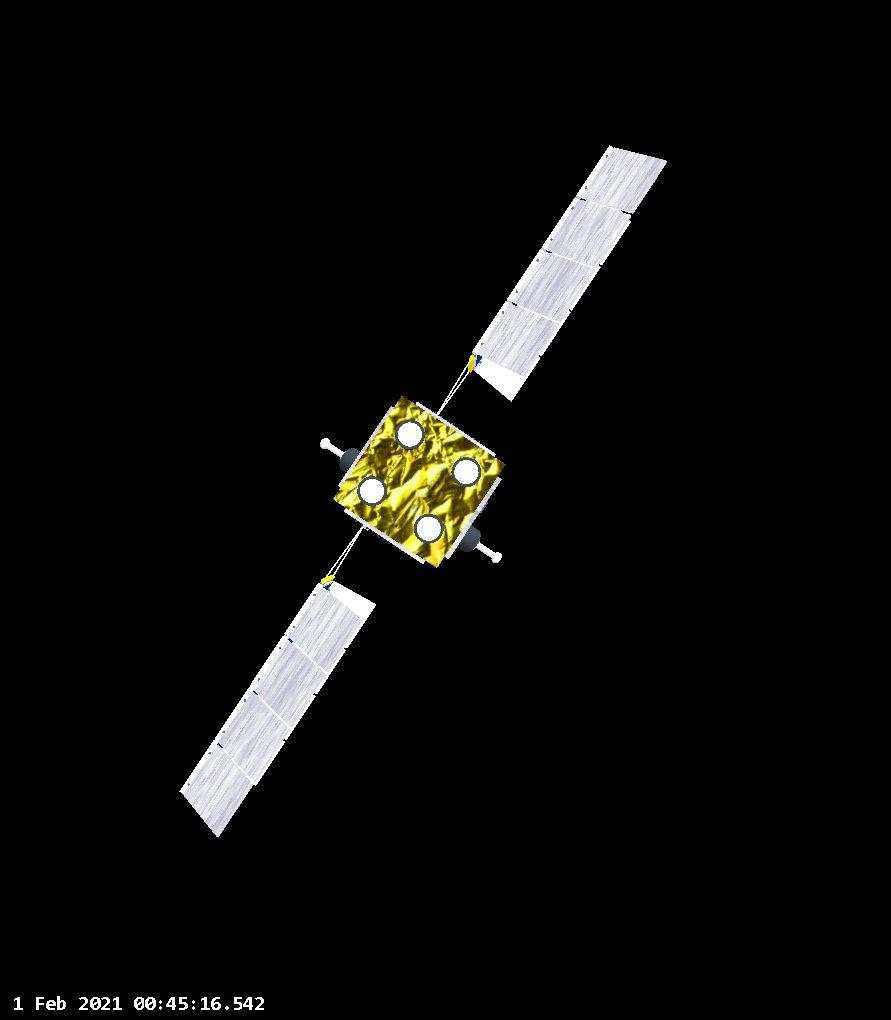antenna: (456, 526, 508, 569), (310, 430, 359, 469), (410, 510, 446, 545), (389, 421, 428, 451), (354, 472, 387, 507), (450, 455, 482, 488)
body: (325, 388, 508, 578)
solar: (456, 137, 673, 406), (177, 571, 379, 847)
